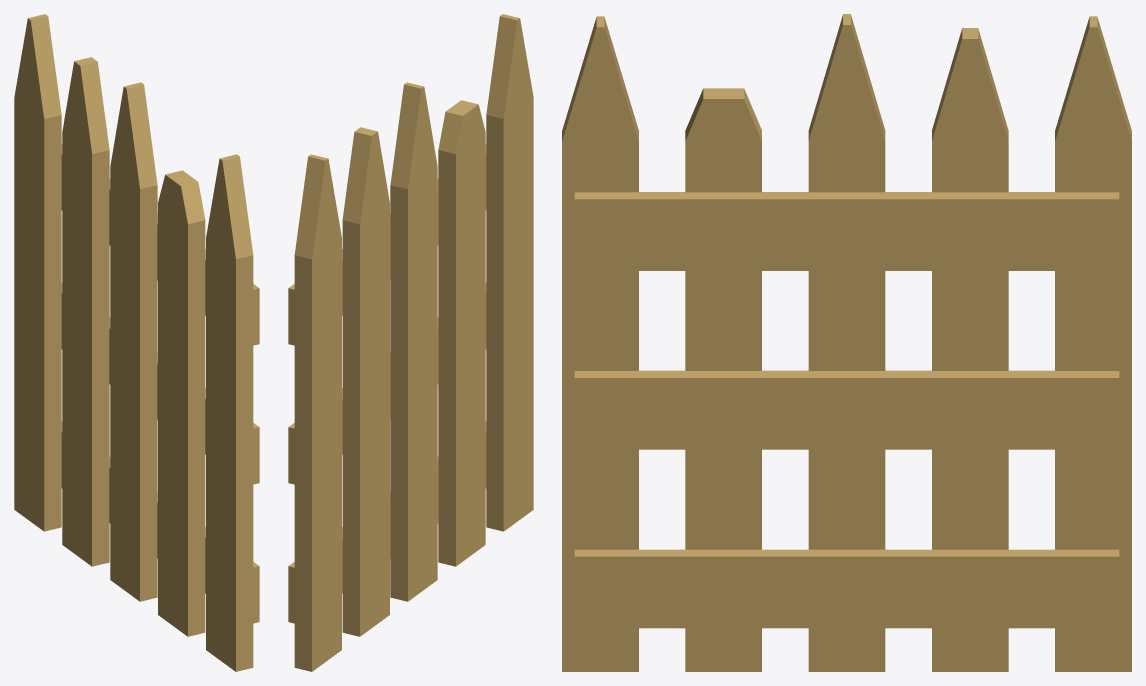
File: fence2.fbx
3 renders of one model, left to right at view 1: azimuth 30°, elevation 25°; view 2: azimuth 150°, elevation 25°; view 3: azimuth 270°, elevation 25°, orthographic. The views are drawn at different scales.
Parts seen in each view (by area): view 1: fence_2; view 2: fence_2; view 3: fence_2.
Part boxes in pixels (left/top/right/bottom): fence_2: left=14, top=14, right=259, bottom=671; fence_2: left=288, top=14, right=533, bottom=671; fence_2: left=562, top=14, right=1131, bottom=671.
Bounding box in the file's own units: 12.92 × 217 × 173.
